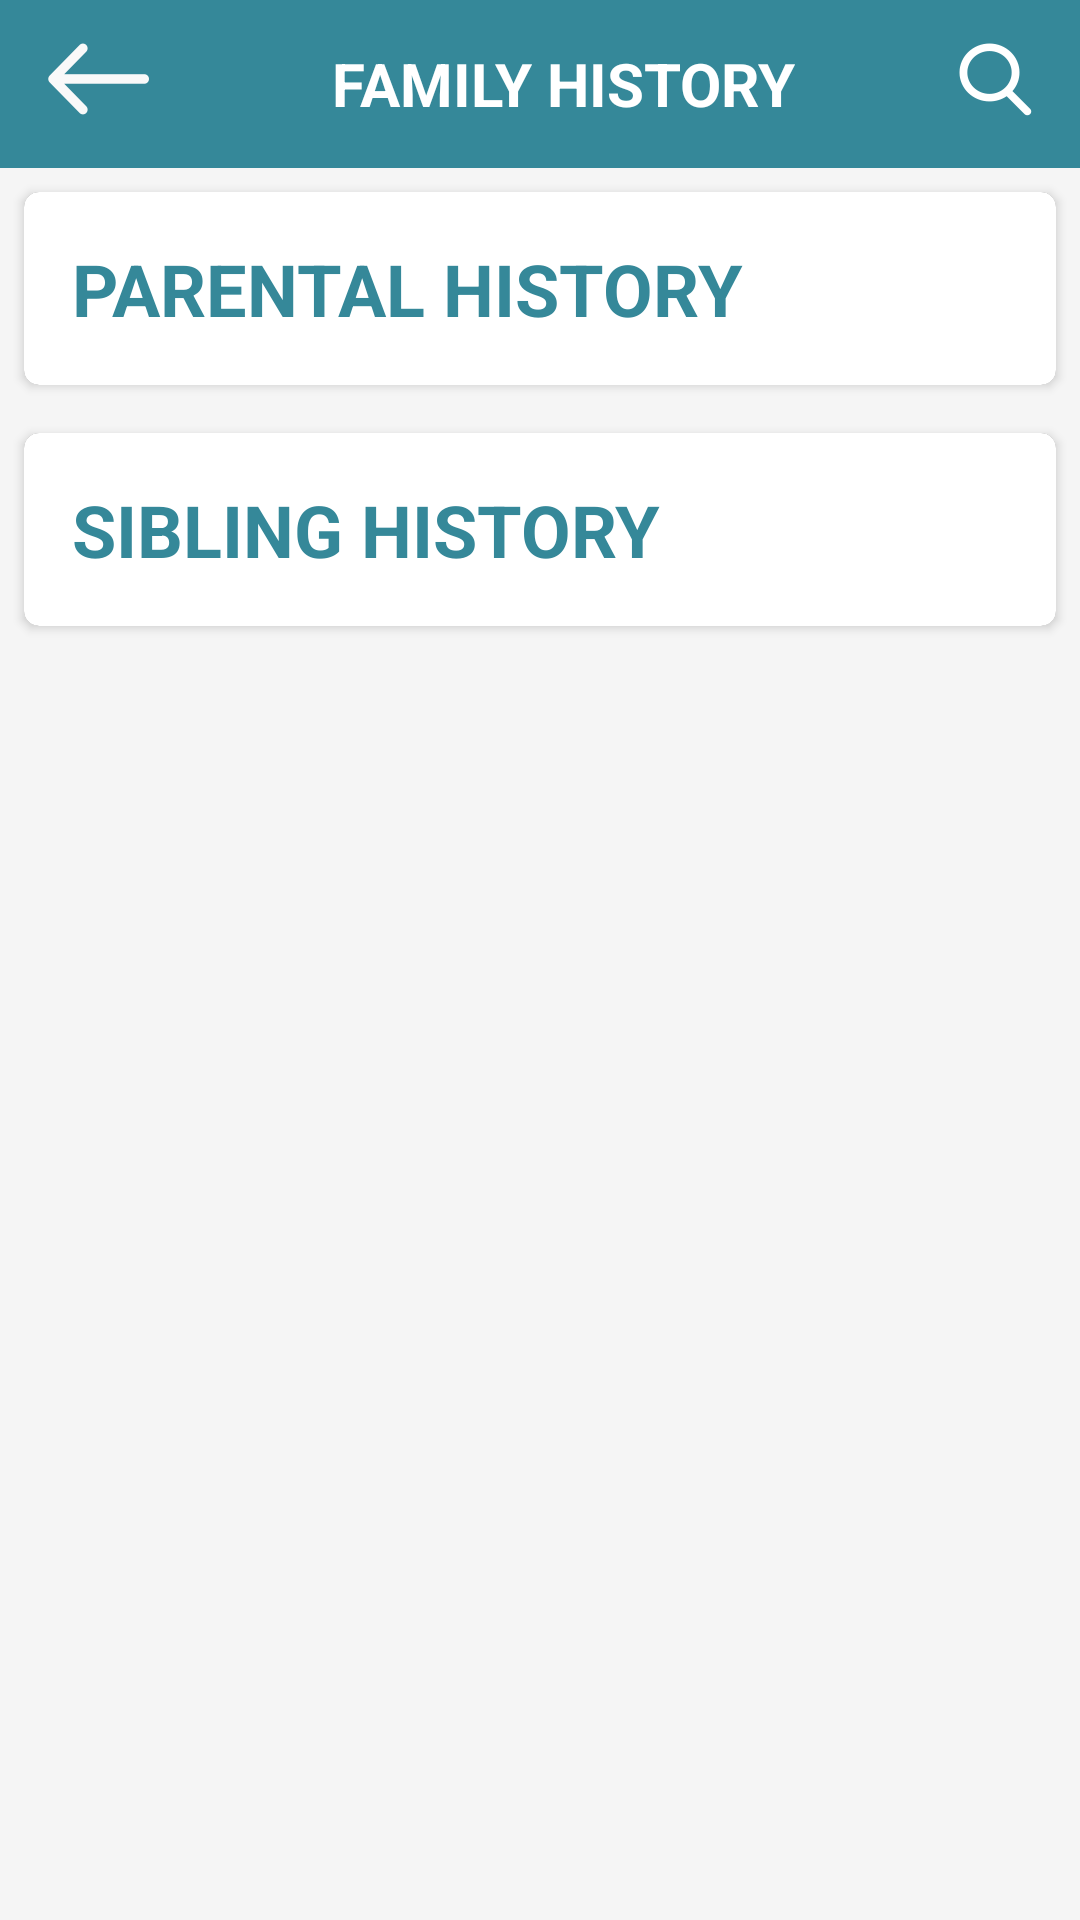

Where to tap for icons on this 1080 × 1920 app screen, as (x=x, y=y):
Back Button: (x=98, y=79)
Search: (x=995, y=79)
